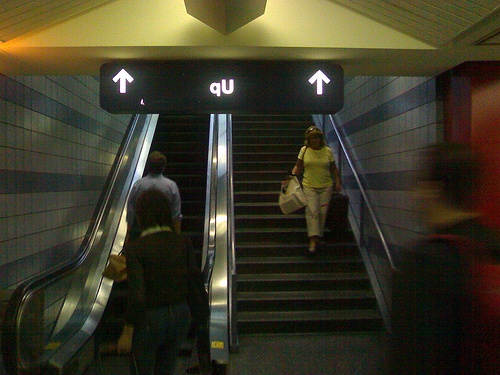stairs_up: (235, 228, 384, 347)
